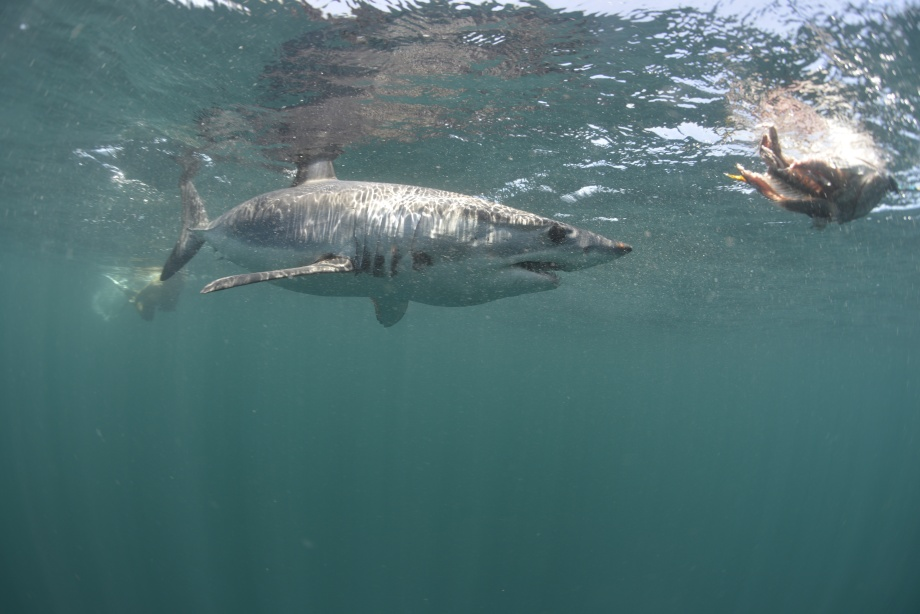Mako: (153, 155, 642, 357)
